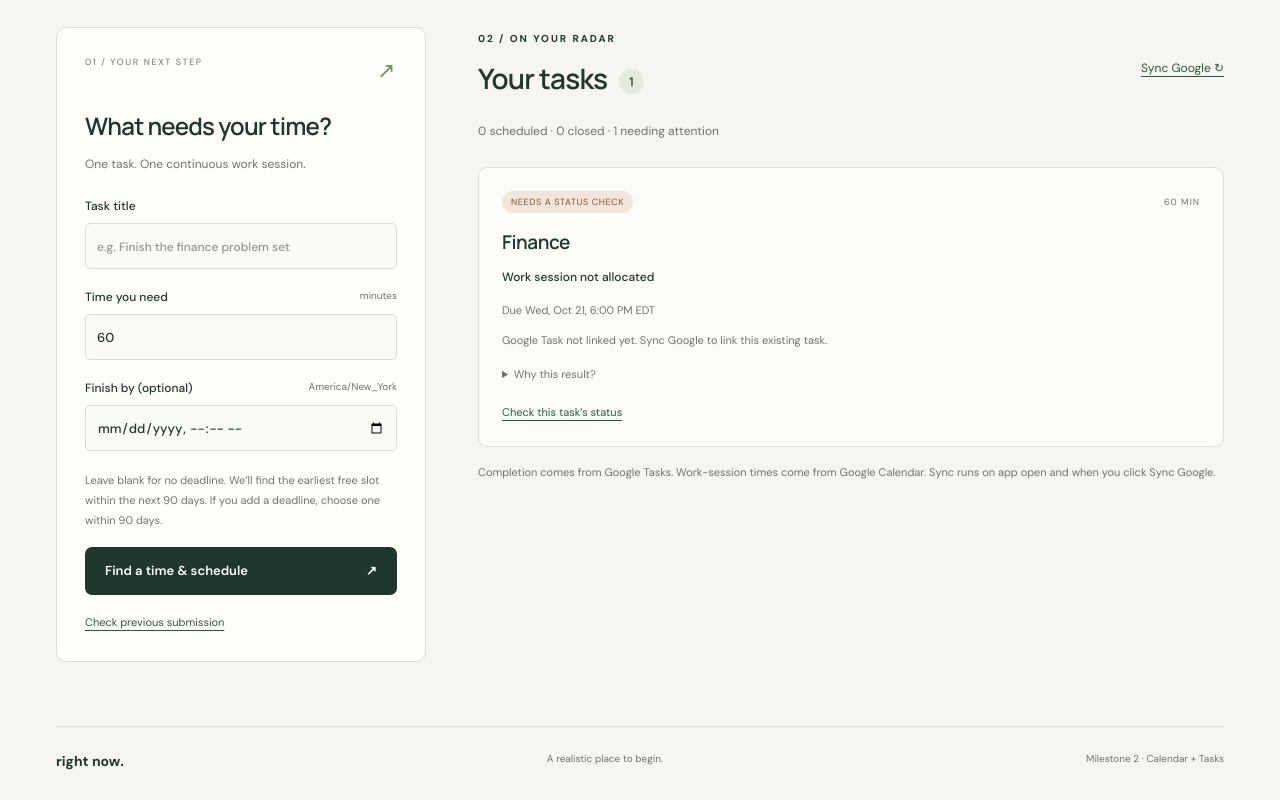
Test: Signed-in structured task form › can recover a persisted error task from a new tab
(page scrolled)
Click the button "Check this task’s status": [562, 412] box [502,401,622,423]
(page scrolled)
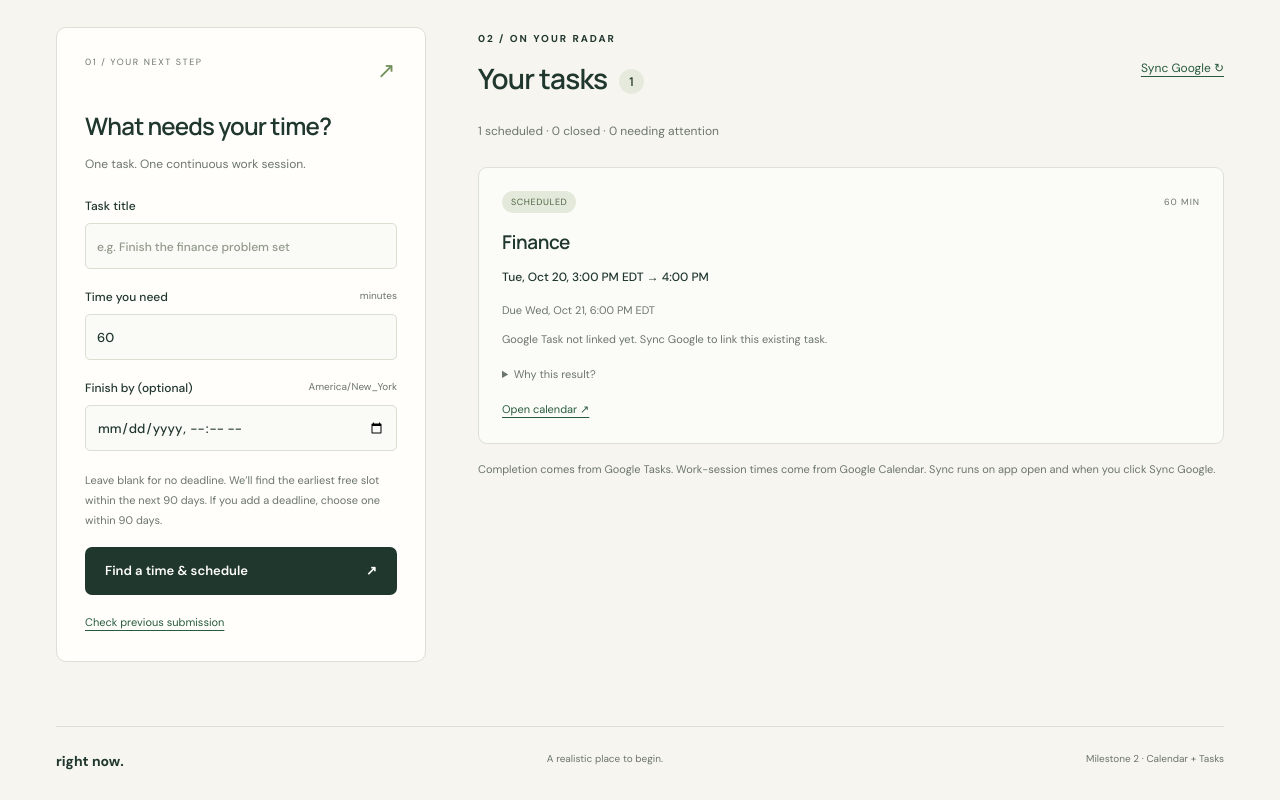
Now the text "Scheduled" is shown, box [502,191,576,213]
